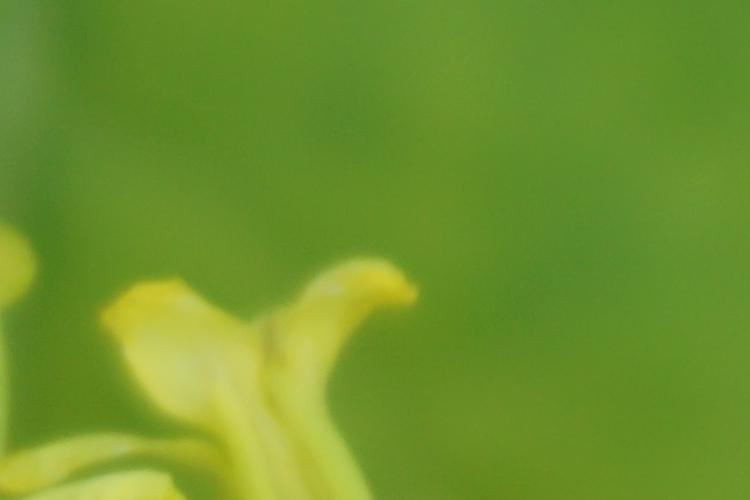yellow: (95, 243, 432, 500)
